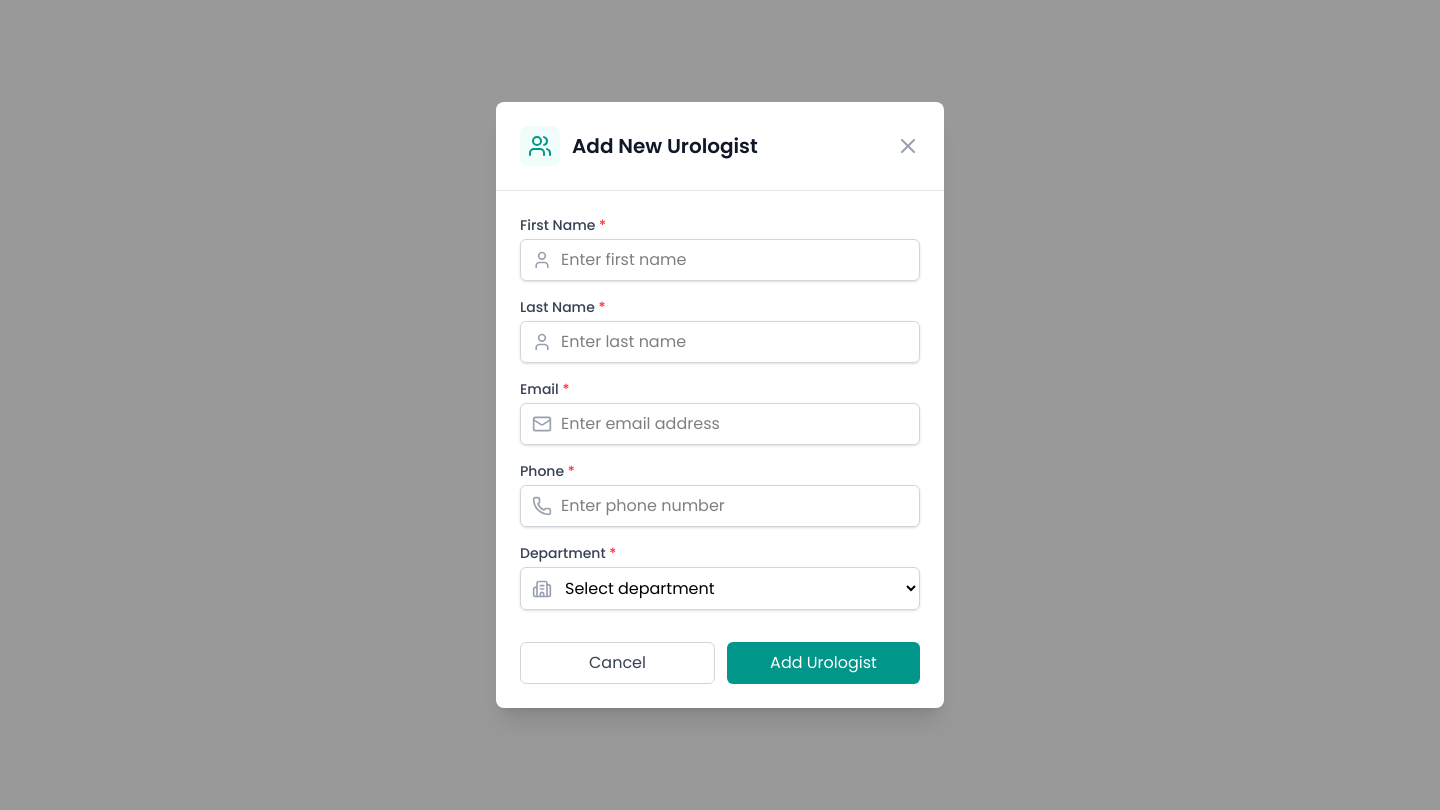
Test: AddUrologistModal › should handle handleSubmit with NaN department_id gracefully
# Fill in all required fields except department (which will be empty)
Type "John" into the field with placeholder "Enter first name" at (720, 260), box [520,239,920,281]
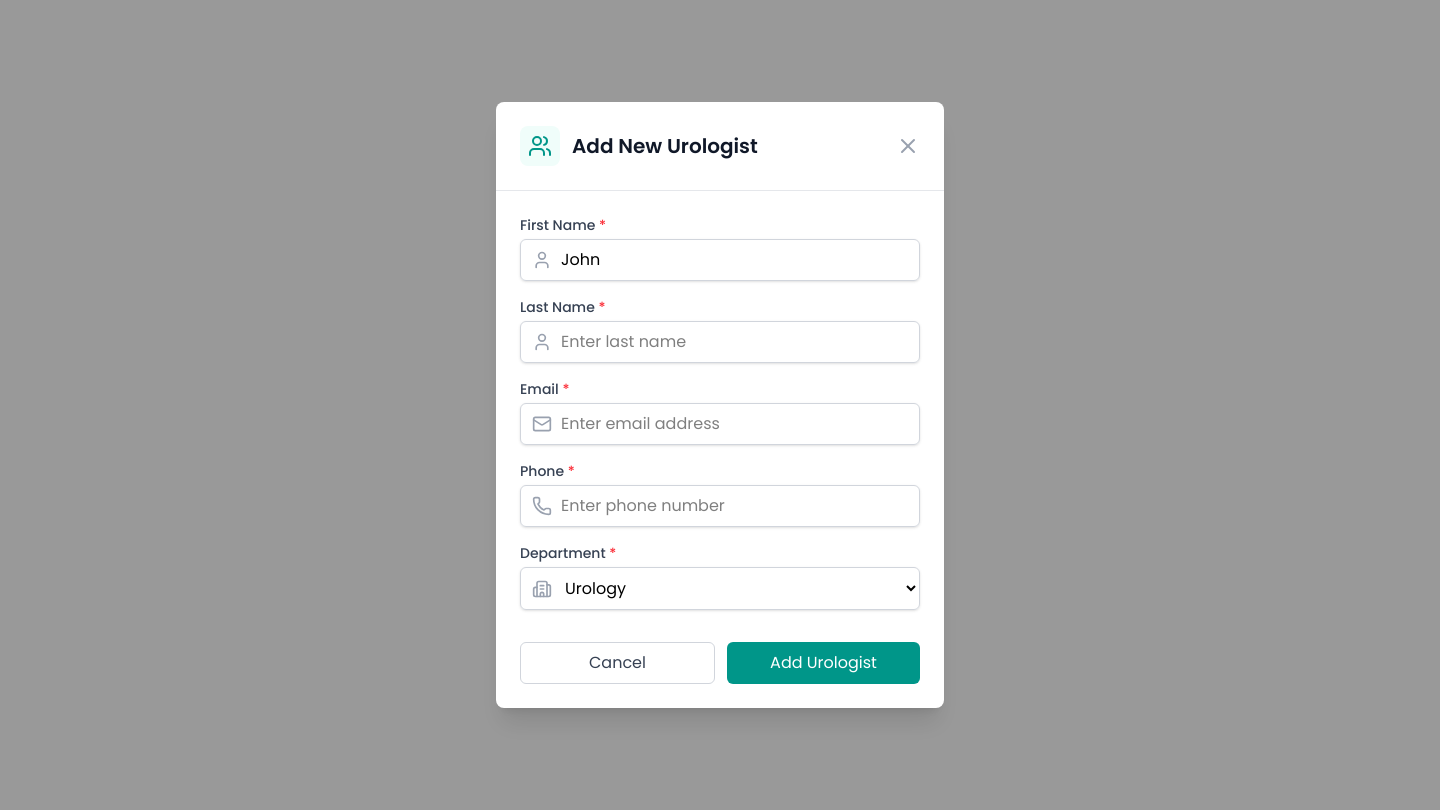
Type "Doe" into the field with placeholder "Enter last name" at (720, 342), box [520,321,920,363]
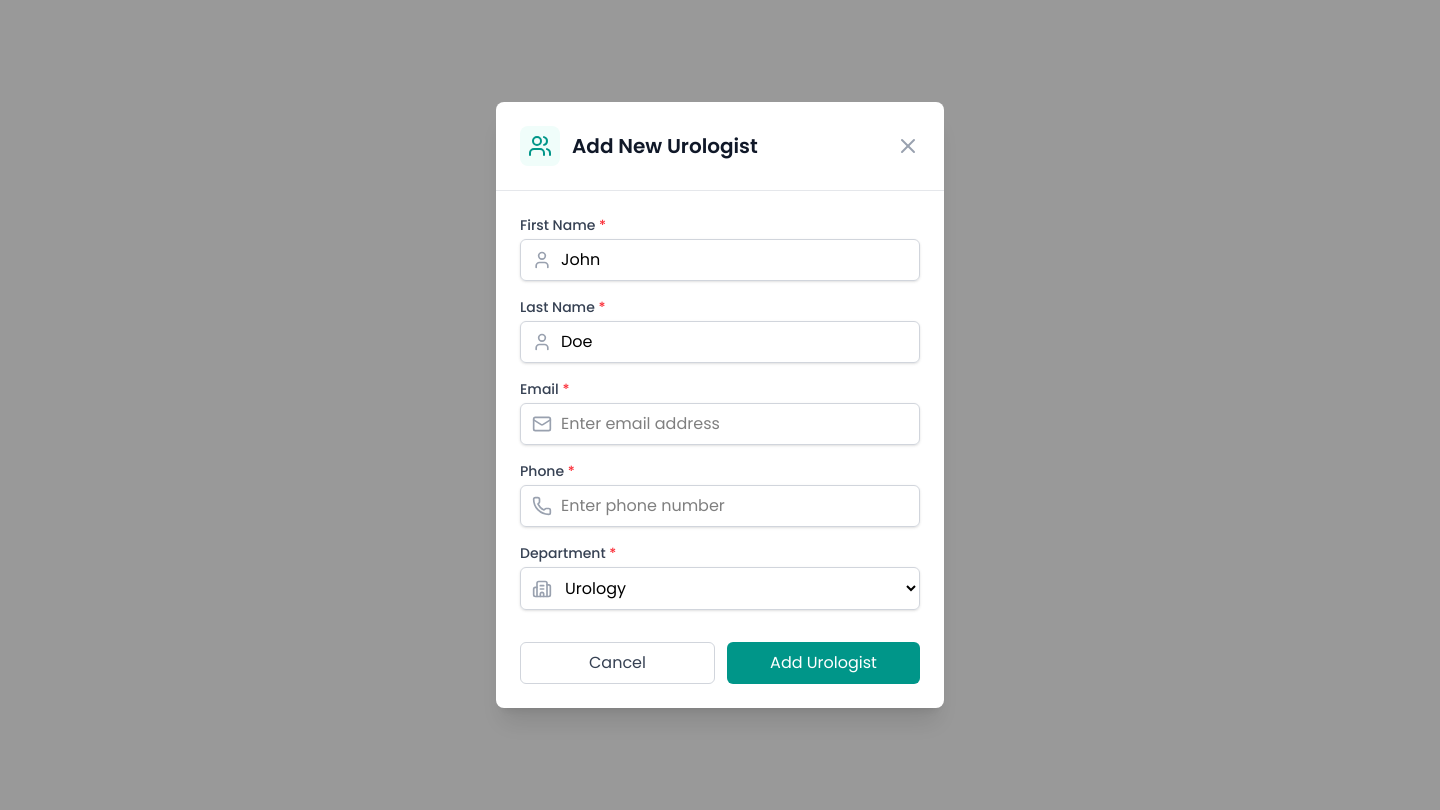
Type "john@test.com" into the field with placeholder "Enter email address" at (720, 424), box [520,403,920,445]
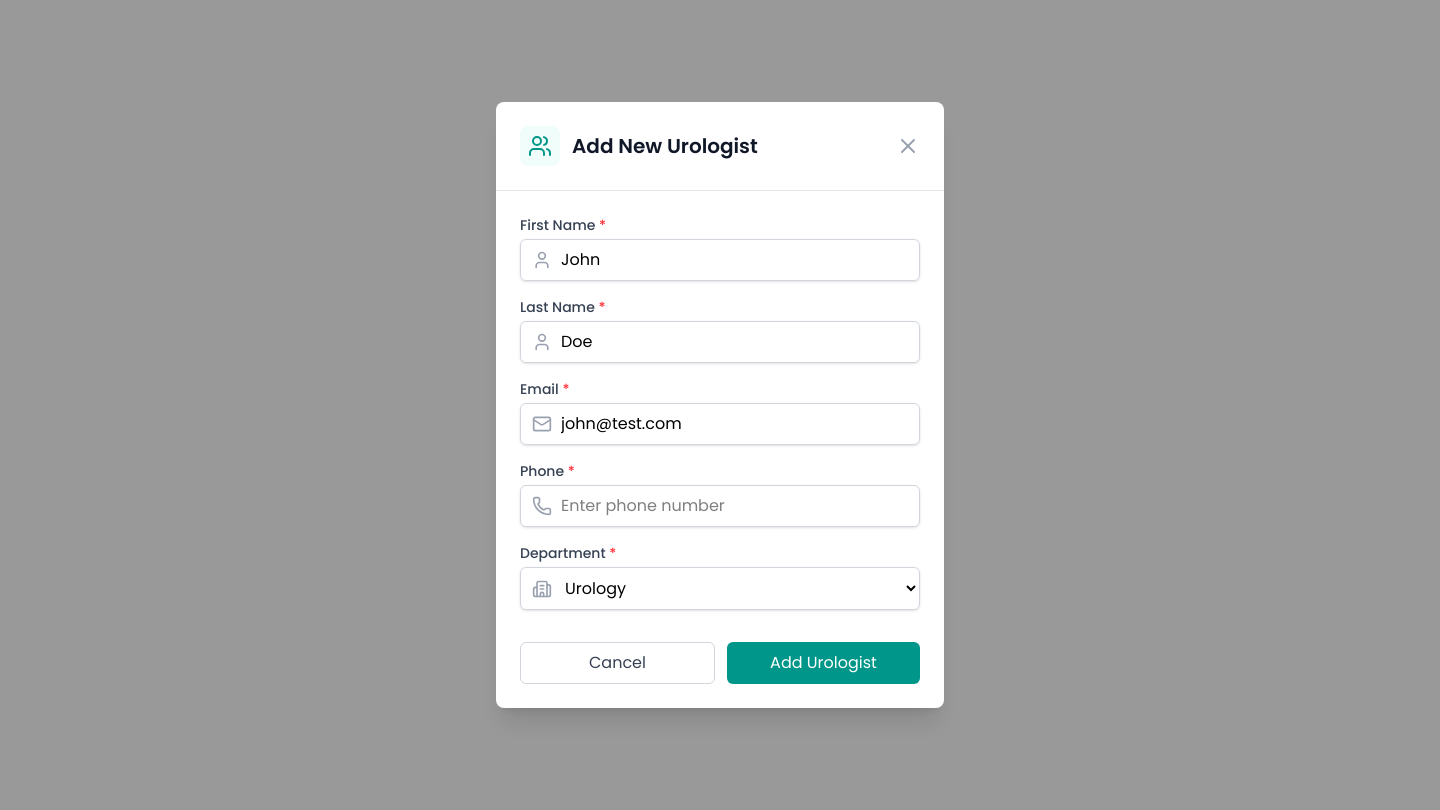
Type "1234567890" into the field with placeholder "Enter phone number" at (720, 506), box [520,485,920,527]
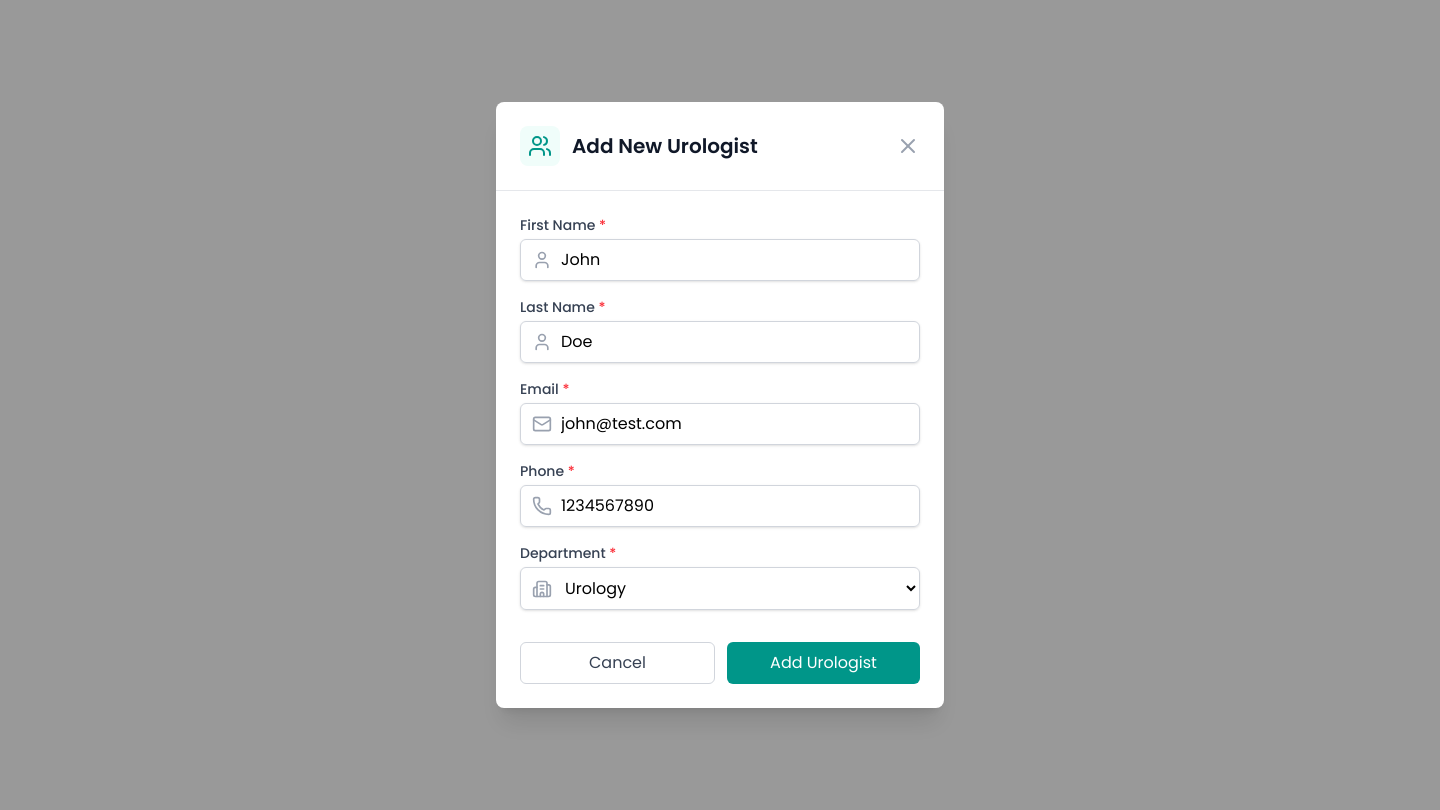
# Clear department selection (empty string)
Select "Select department" in the dropdown at (720, 588), box [520,567,920,610]
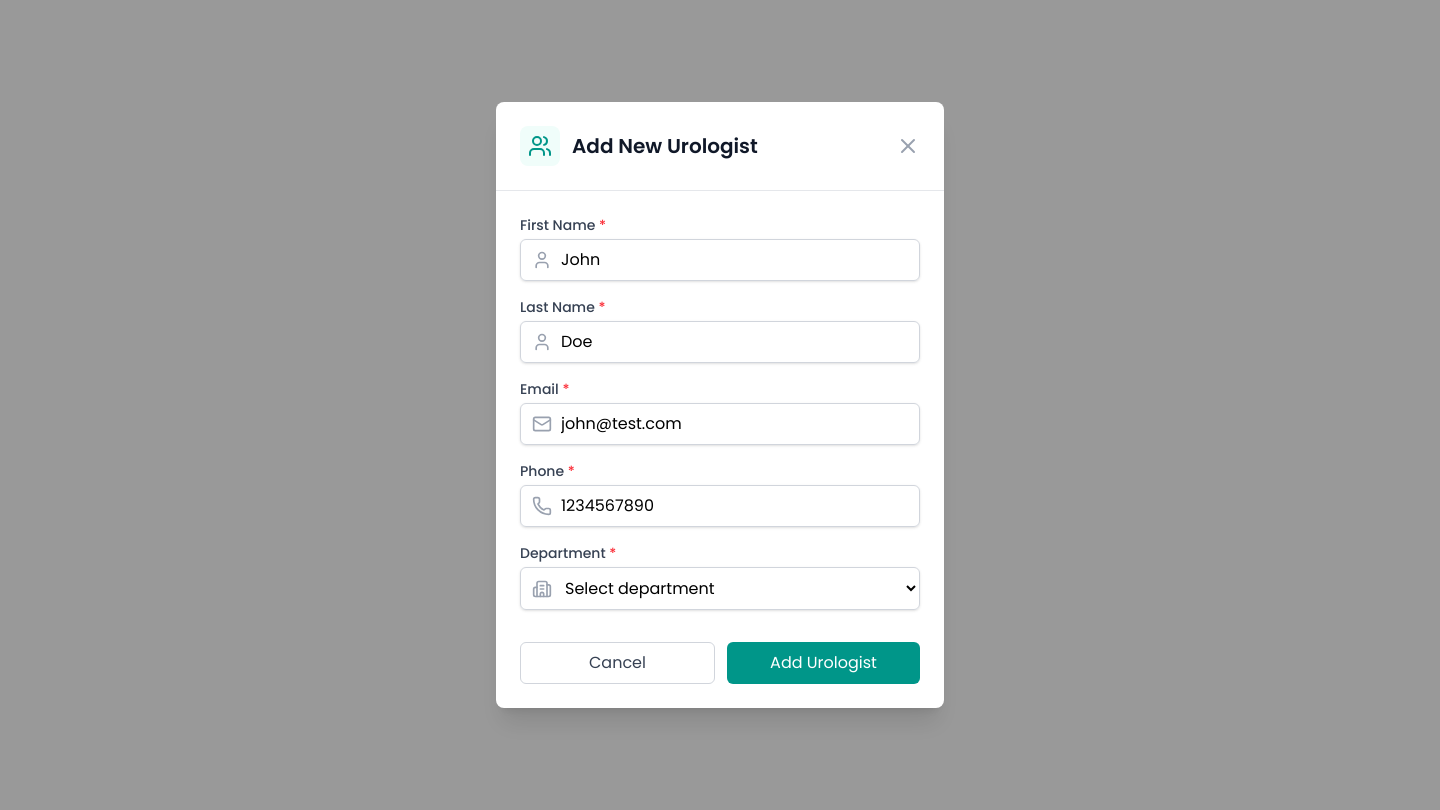
Click the button "Add Urologist" at (824, 663), box [727,642,920,684]
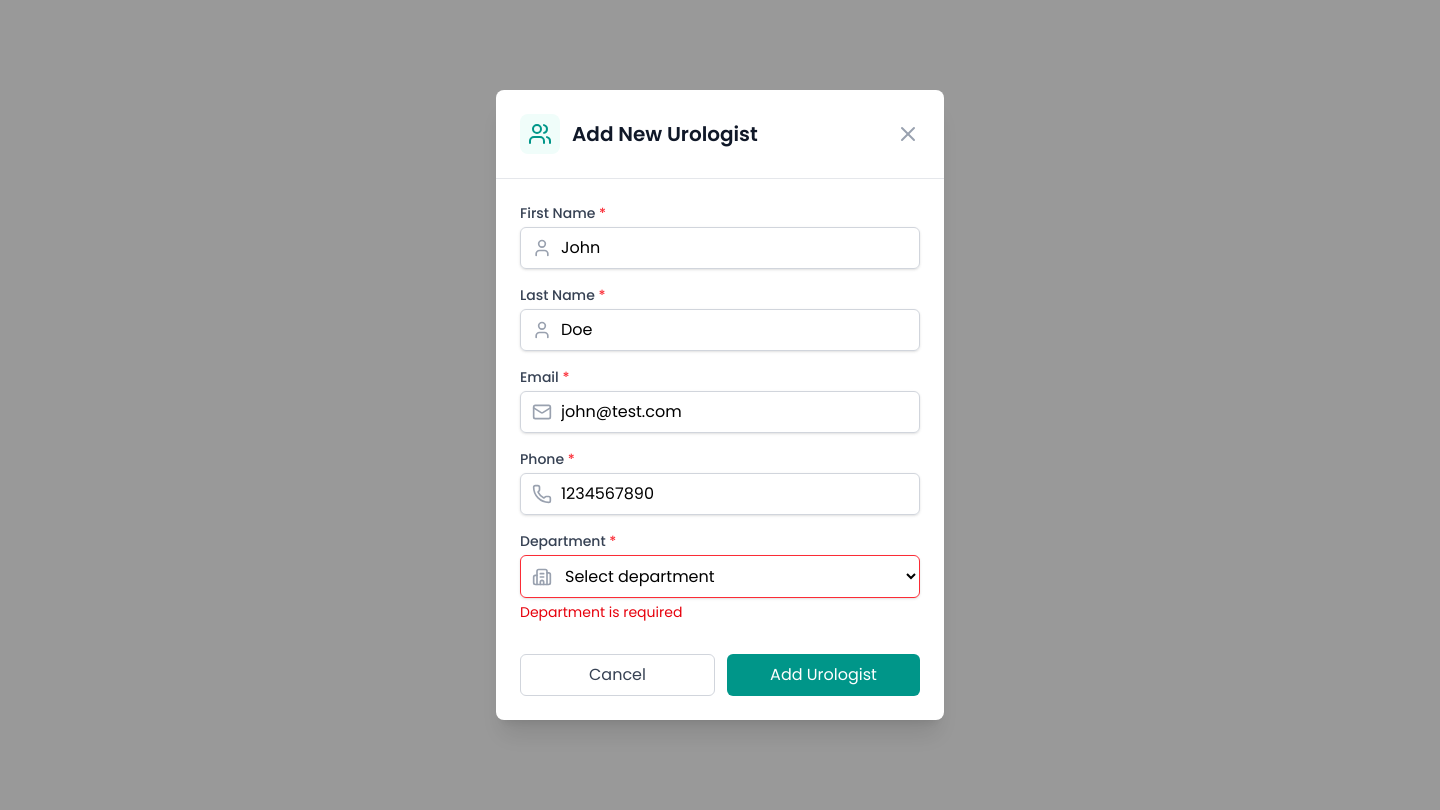
Expected: the text "Department is required" is shown, [520,602,682,622]
